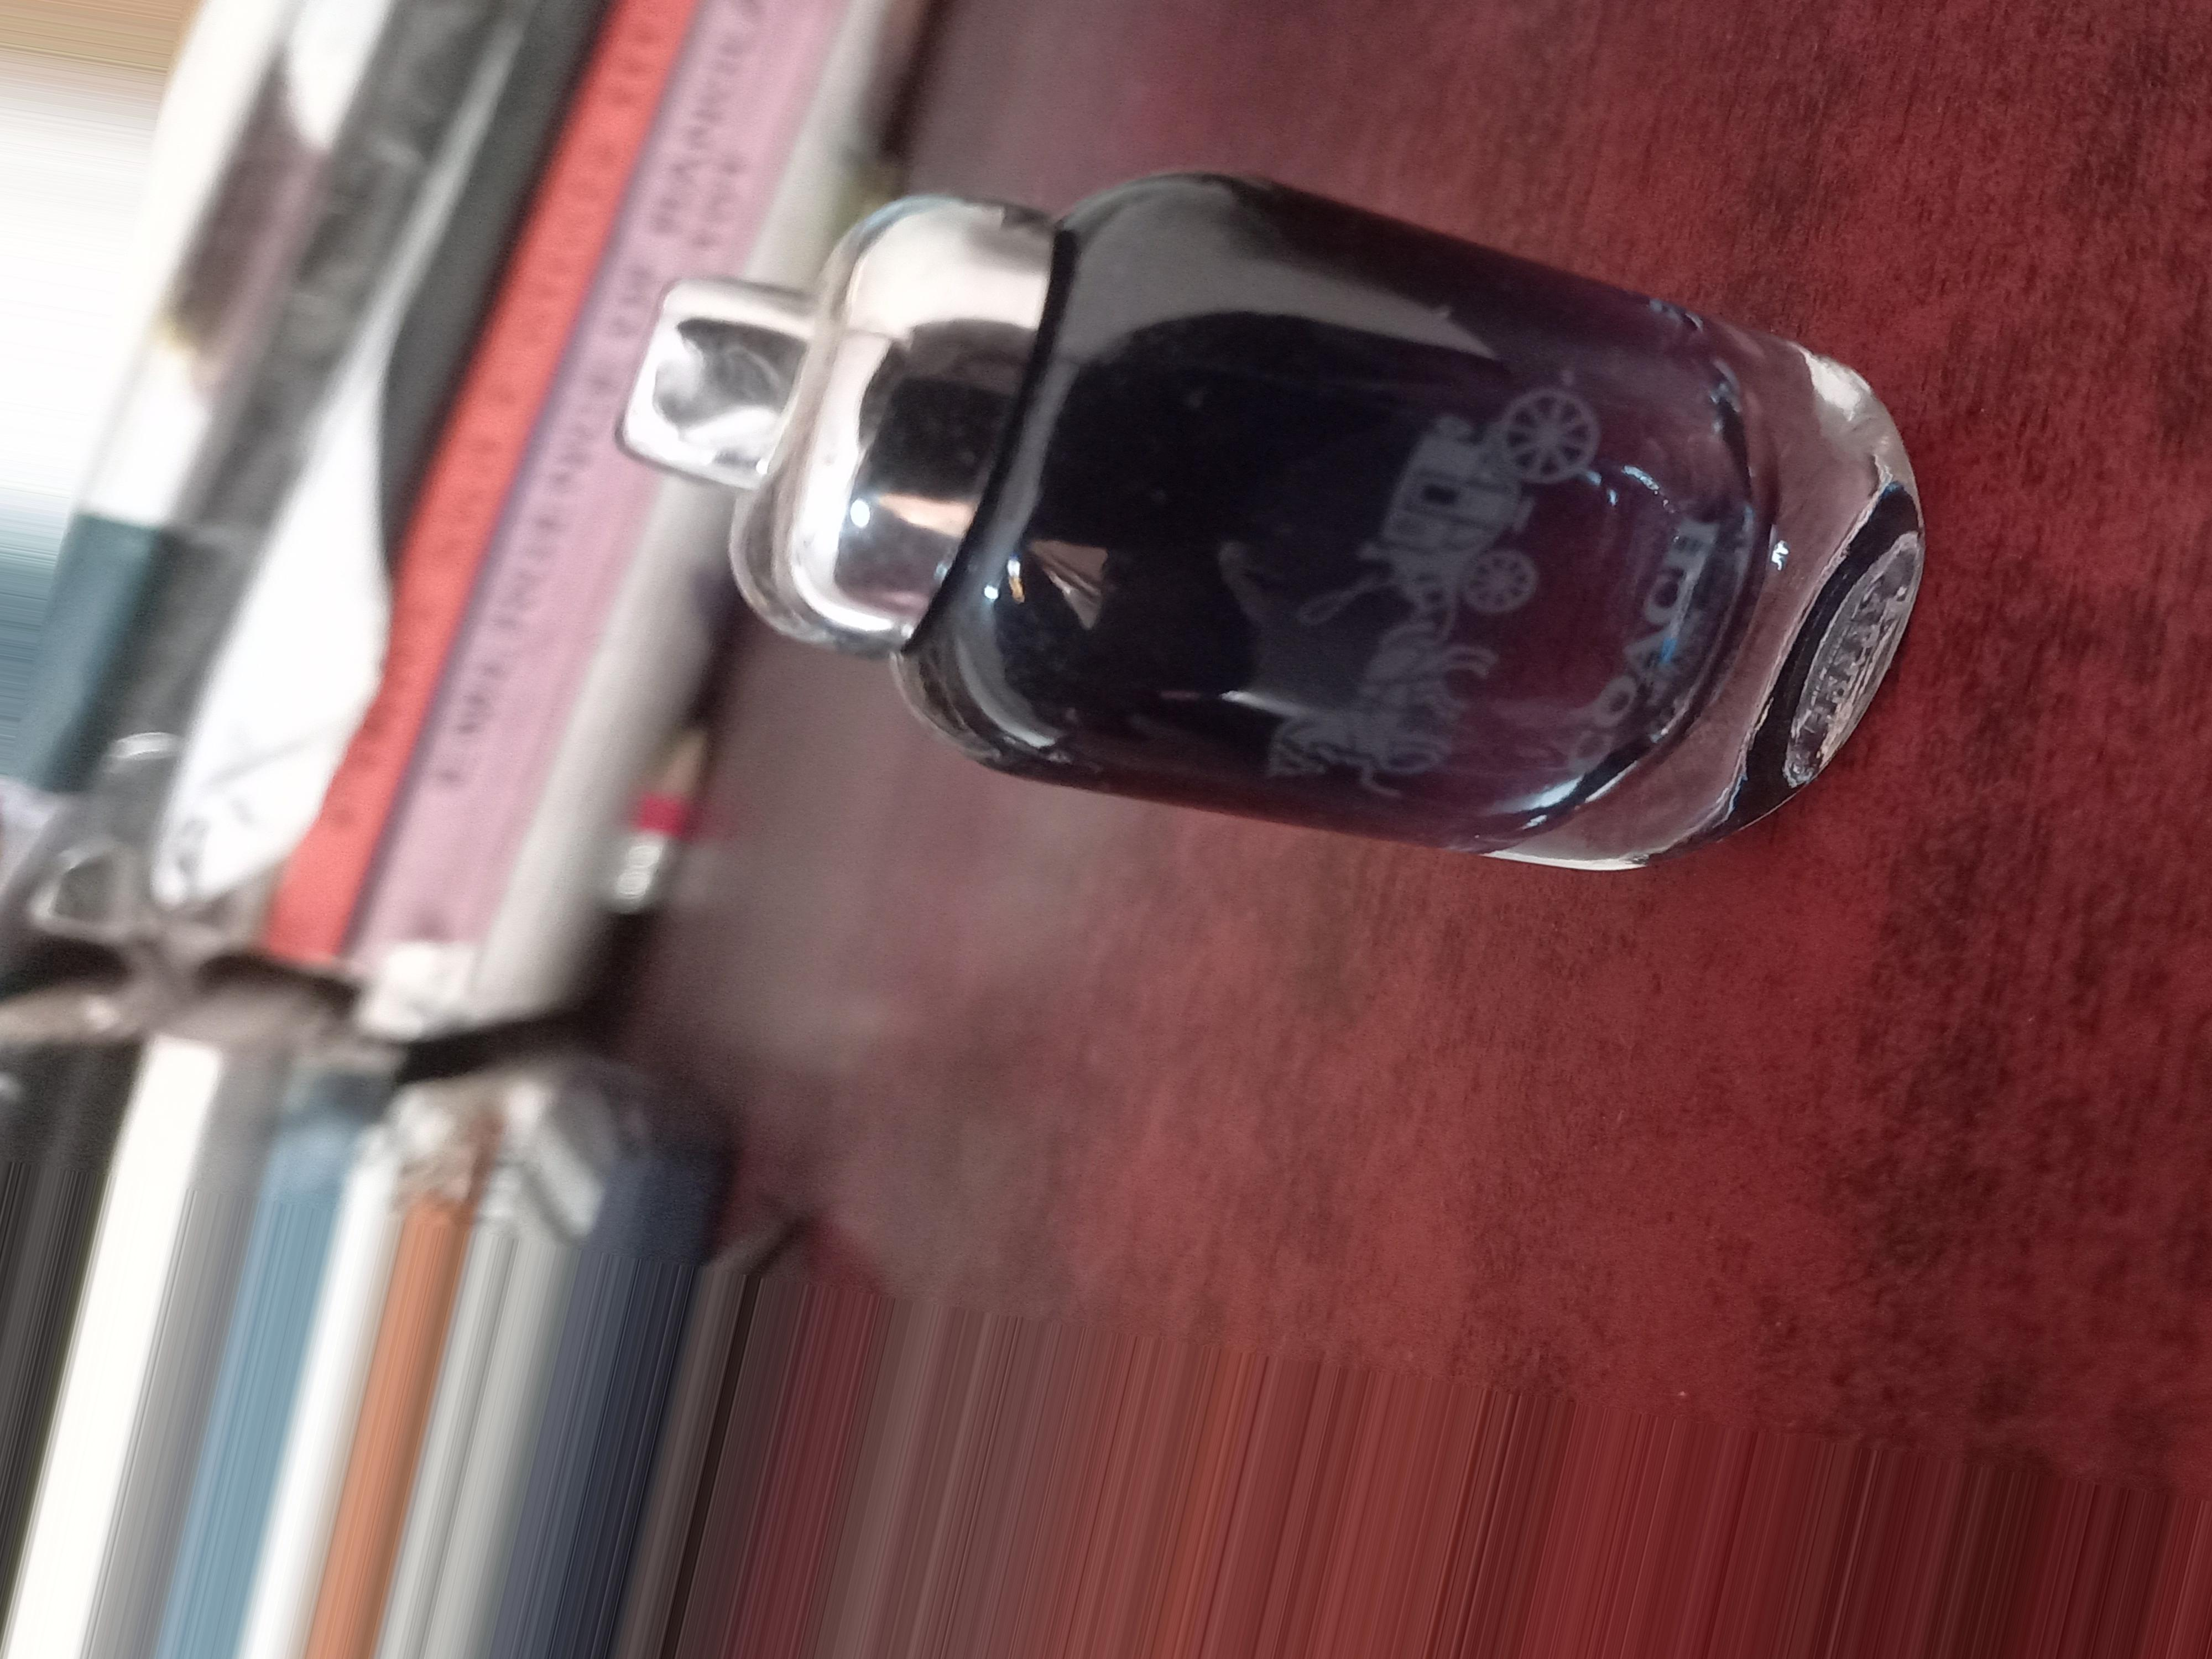perfume: (625, 437, 2022, 828)
